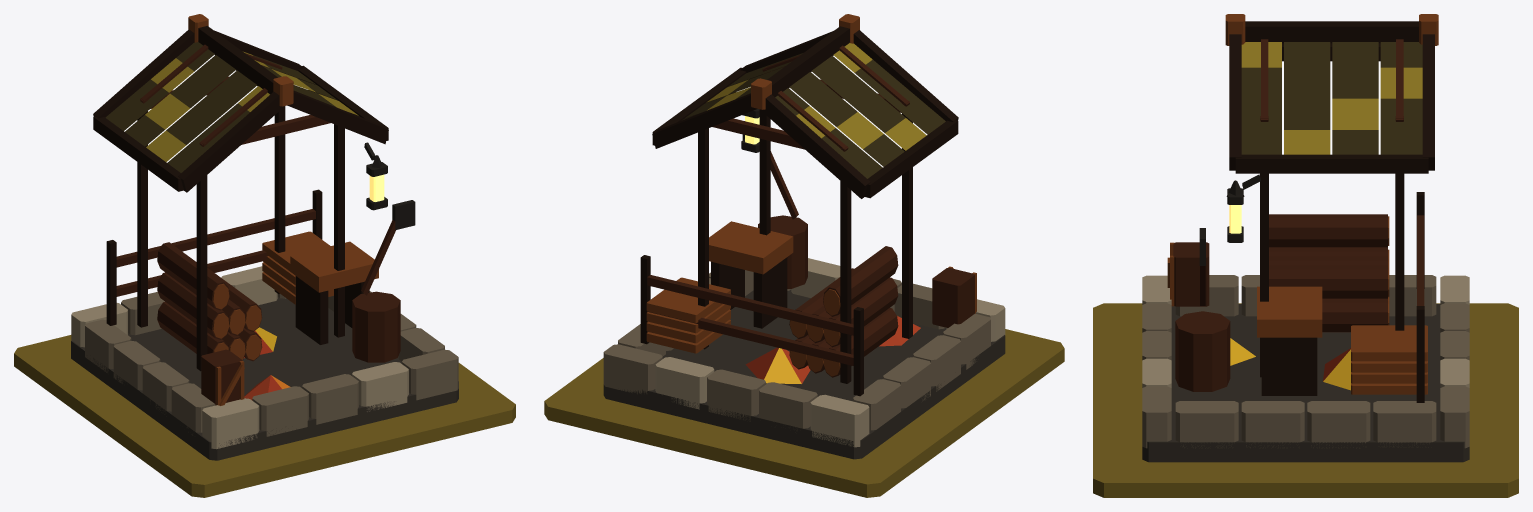
File: lumber_t4.glb
The picture shows the model from 3 angles, left to right: view 1: azimuth 30°, elevation 25°; view 2: azimuth 150°, elevation 25°; view 3: azimuth 270°, elevation 25°; orthographic projection. The views are drawn at different scales.
Parts seen in each view (by area): view 1: MMR | lumber | T04 Architecture.001, MMR | lumber | Tier 04 Ground.001, MMR | lumber | T04 Autumn Dressing.001; view 2: MMR | lumber | T04 Architecture.001, MMR | lumber | Tier 04 Ground.001, MMR | lumber | T04 Autumn Dressing.001; view 3: MMR | lumber | T04 Architecture.001, MMR | lumber | Tier 04 Ground.001, MMR | lumber | T04 Autumn Dressing.001.
Part boxes in pixels (x1,y1,x2,y2): MMR | lumber | T04 Architecture.001: [71, 14, 458, 460]; MMR | lumber | Tier 04 Ground.001: [14, 335, 515, 497]; MMR | lumber | T04 Autumn Dressing.001: [244, 327, 290, 400]; MMR | lumber | T04 Architecture.001: [603, 14, 1005, 459]; MMR | lumber | Tier 04 Ground.001: [544, 329, 1064, 497]; MMR | lumber | T04 Autumn Dressing.001: [745, 316, 920, 383]; MMR | lumber | T04 Architecture.001: [1142, 14, 1469, 462]; MMR | lumber | Tier 04 Ground.001: [1093, 303, 1518, 497]; MMR | lumber | T04 Autumn Dressing.001: [1230, 338, 1350, 390].
Size of the model in its own units: 1.3 by 1.29 by 1.3.
2 materials, 1 textured.
